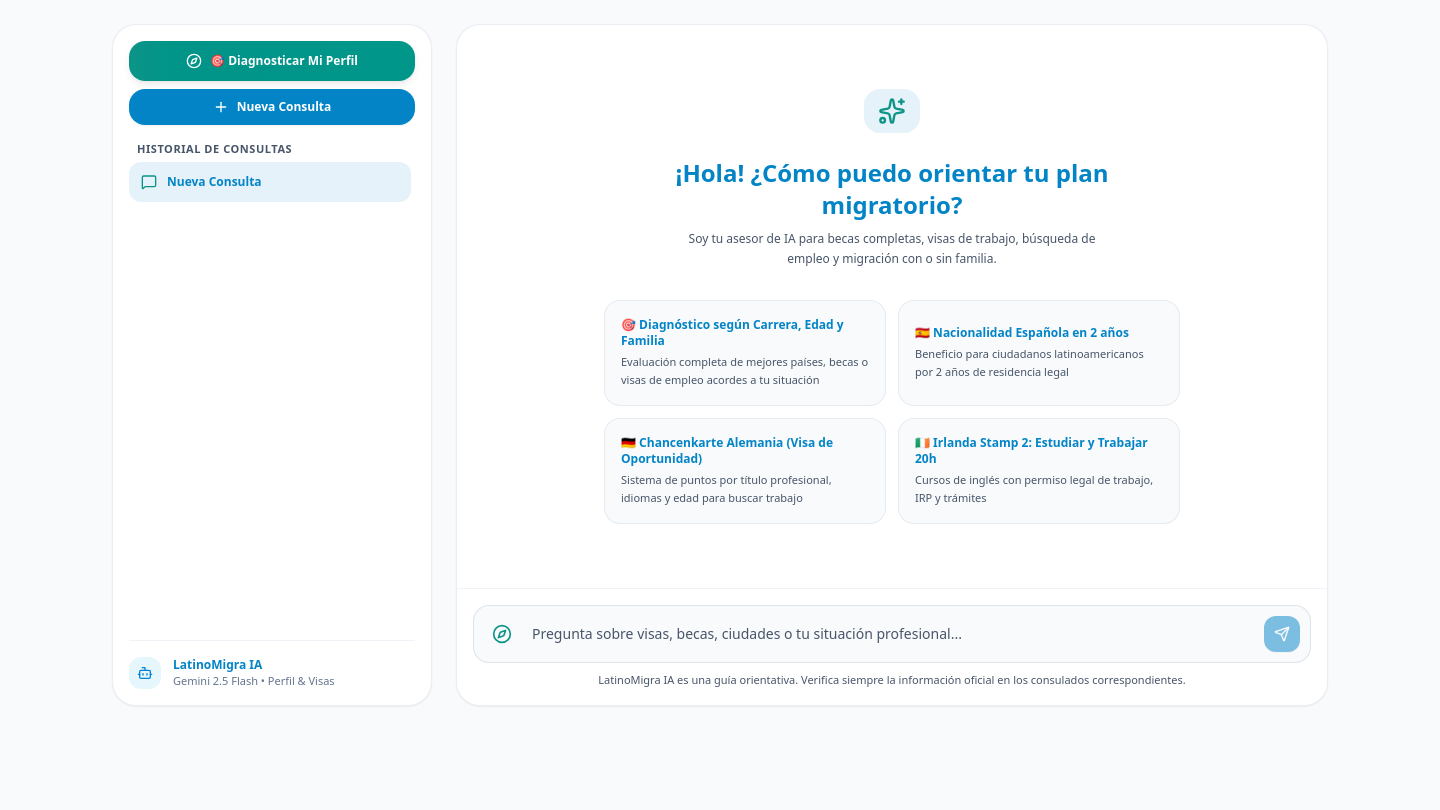
Test case: Both chat surfaces › answers from /api/chat in the full screen too
The image size is (1440, 810).
Replace the text in the field with placeholder "Pregunta sobre visas, becas, ciudades" with "¿Cómo evito una estafa de alquiler?". click: {"x": 892, "y": 634}
box: [532,624,1252,644]
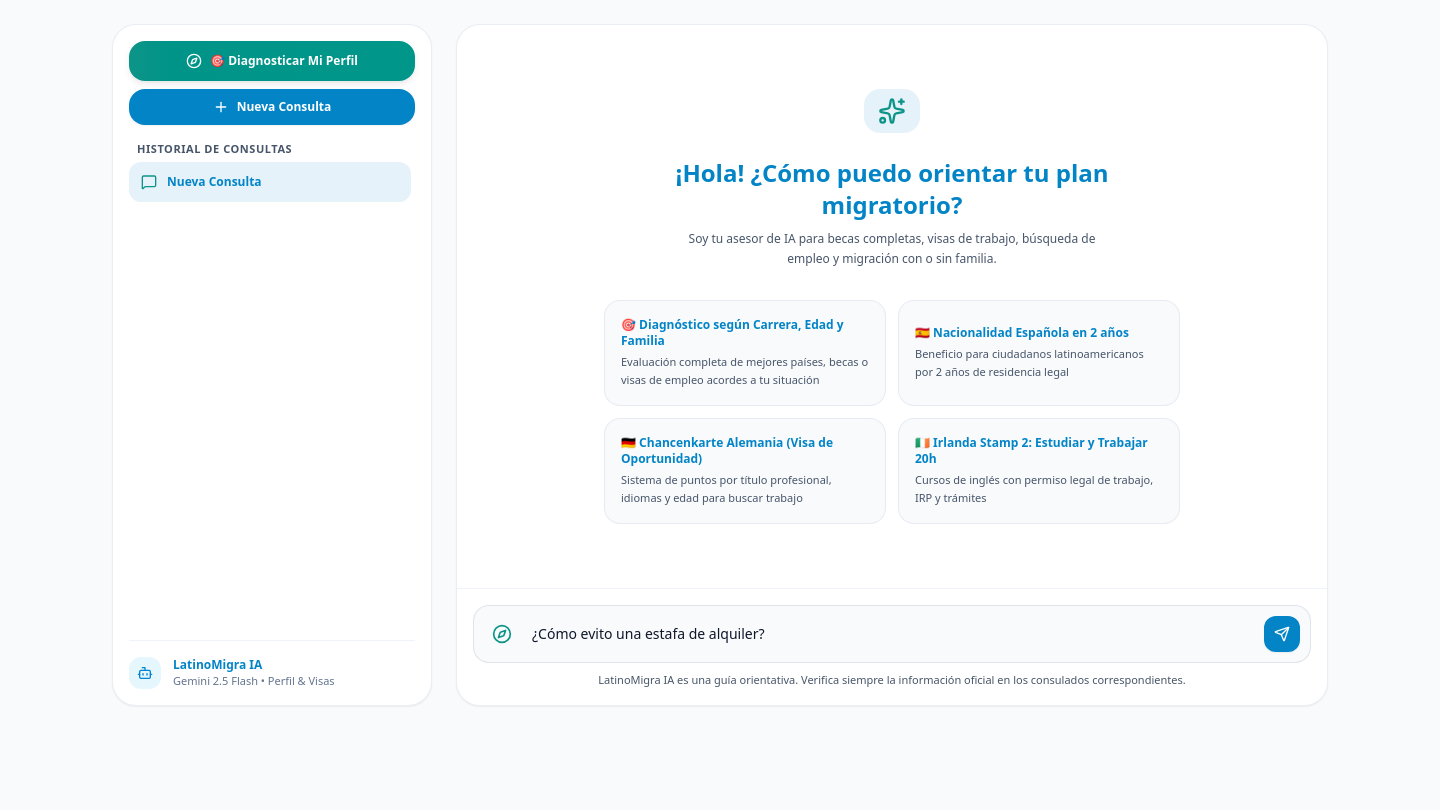
Submit the form with placeholder "Pregunta sobre visas, becas, ciudades", box [473,605,1311,663]
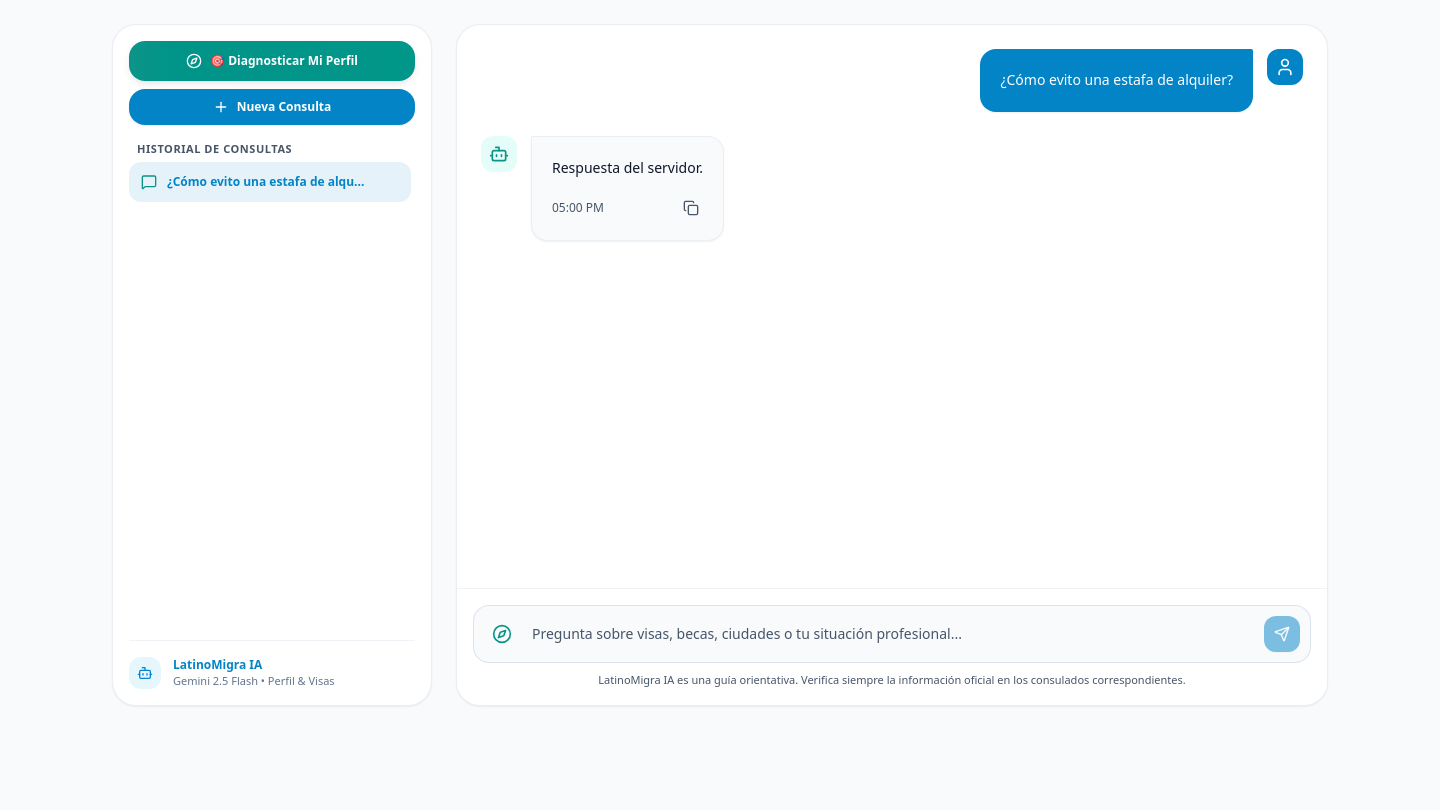
expect the text "Respuesta del servidor." is shown: met, box [552,157,703,180]
